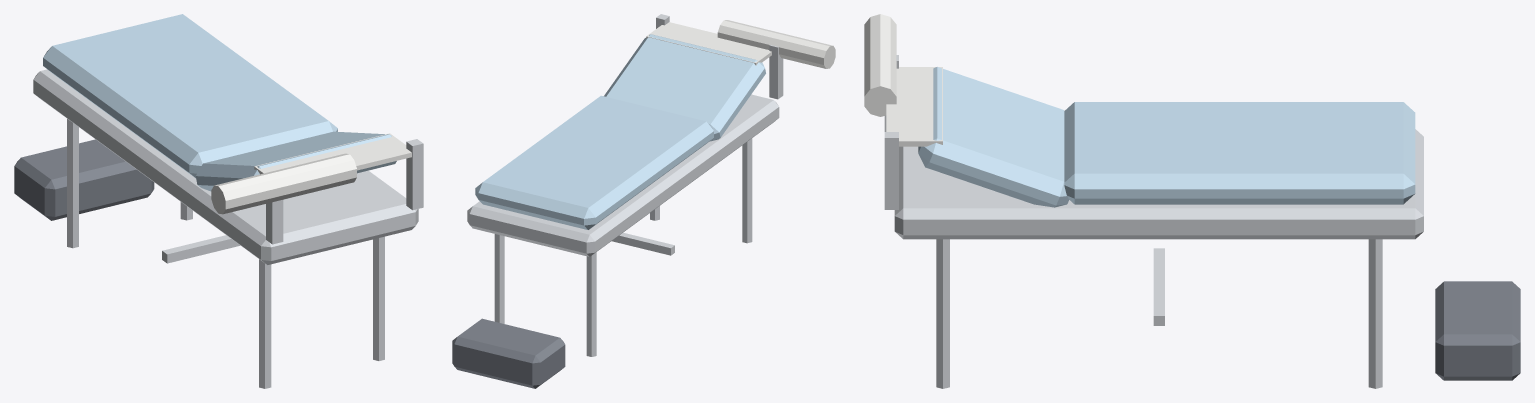
Rendered from examination-couch.glb.
The picture shows the model from 3 angles, left to right: view 1: azimuth 30°, elevation 25°; view 2: azimuth 150°, elevation 25°; view 3: azimuth 270°, elevation 25°; orthographic projection. The views are drawn at different scales.
Parts seen in each view (by area): view 1: examination-couch; view 2: examination-couch; view 3: examination-couch.
Part boxes in pixels (x1,y1,x2,y2): examination-couch: [14, 14, 423, 388]; examination-couch: [452, 14, 835, 388]; examination-couch: [864, 14, 1520, 388].
Size of the model in its own units: 0.96 by 1.04 by 2.31.
